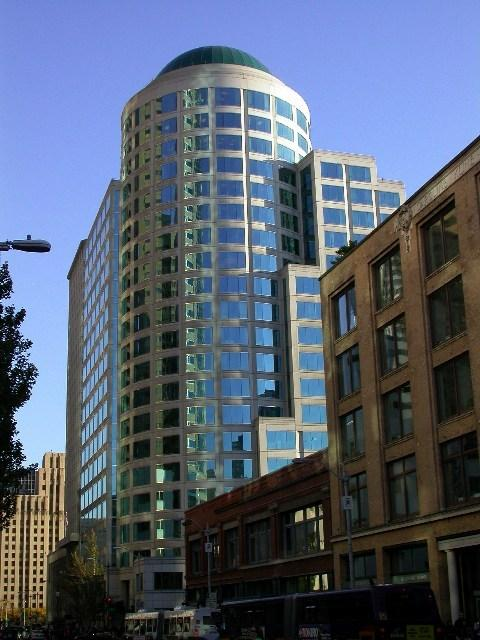building: (70, 44, 407, 612), (318, 134, 480, 640), (185, 449, 334, 640), (0, 451, 65, 627)
